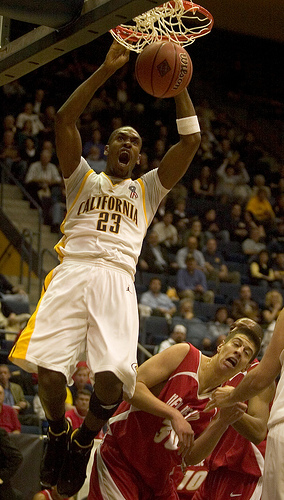basketball: (134, 42, 194, 100)
